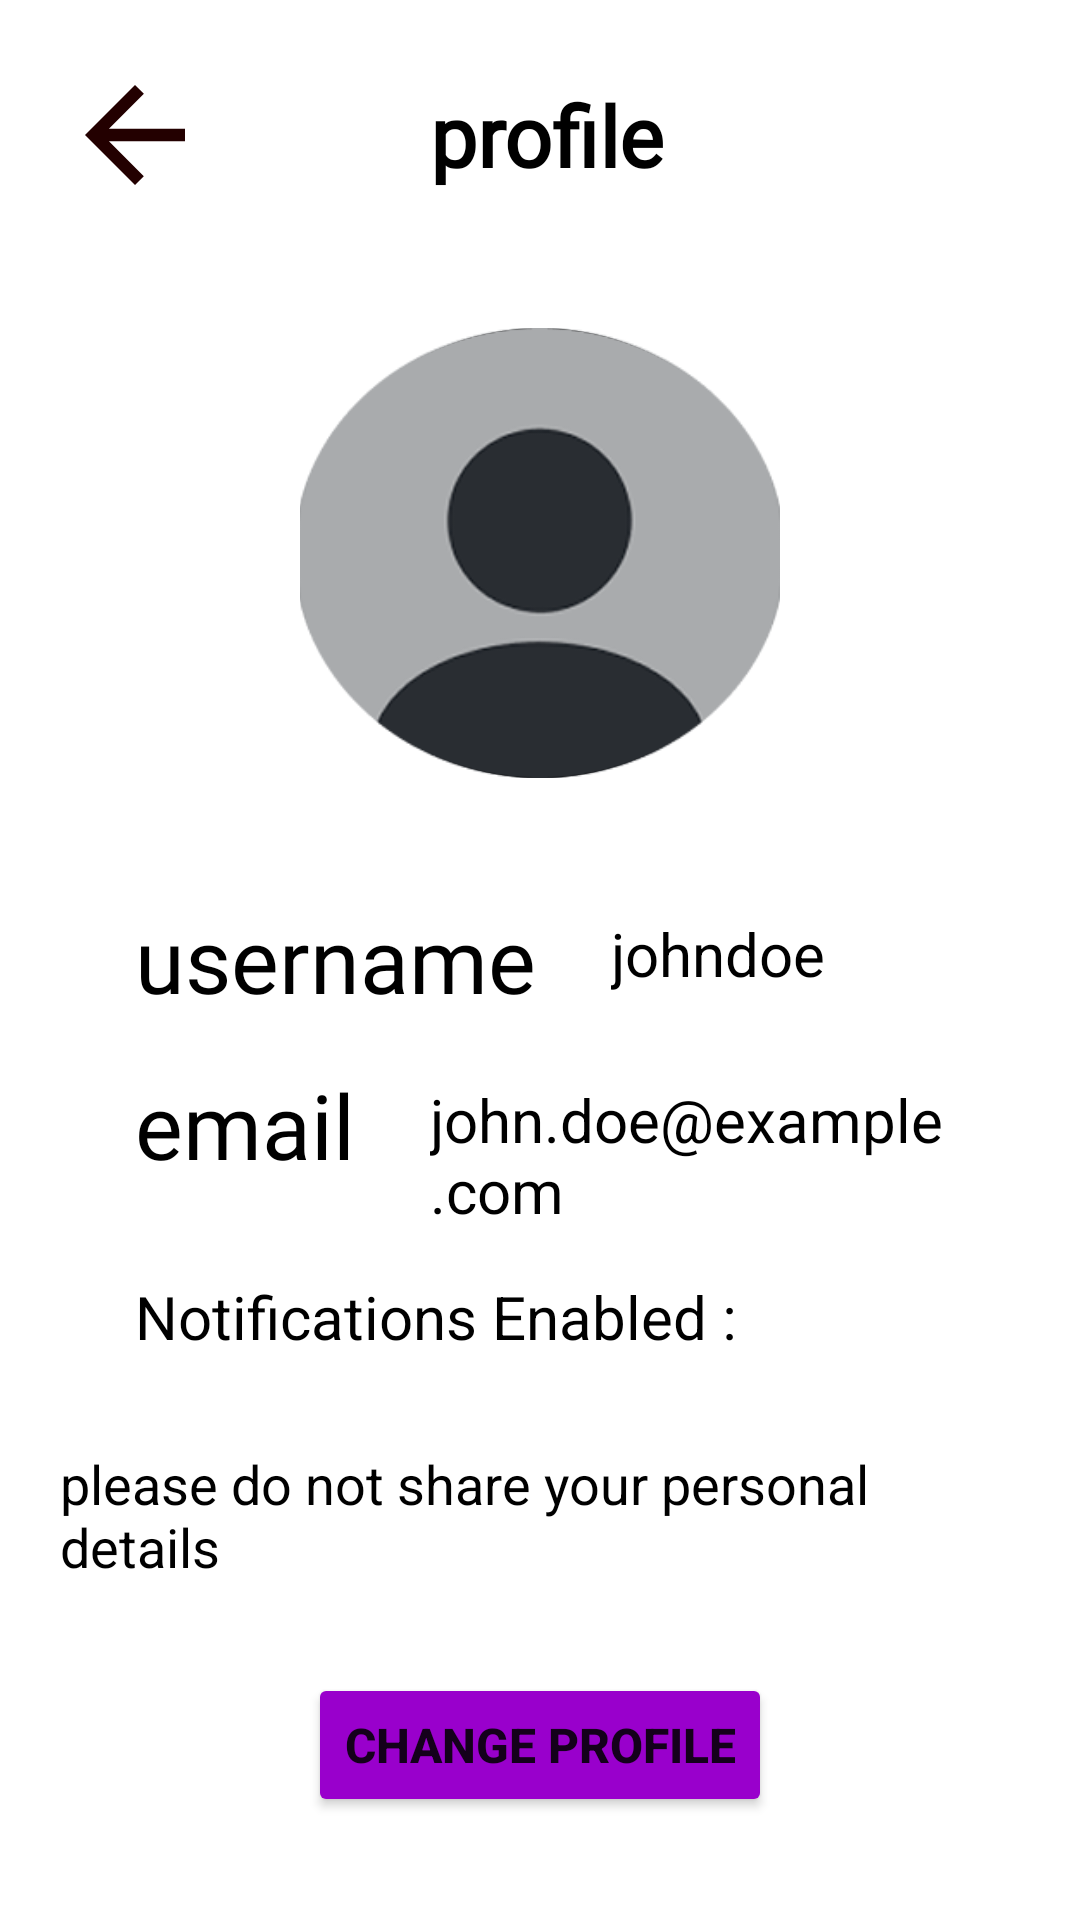

Point at icon controls on the screen. Image size 1080*1920, points as (x,y).
back: (135,135)
